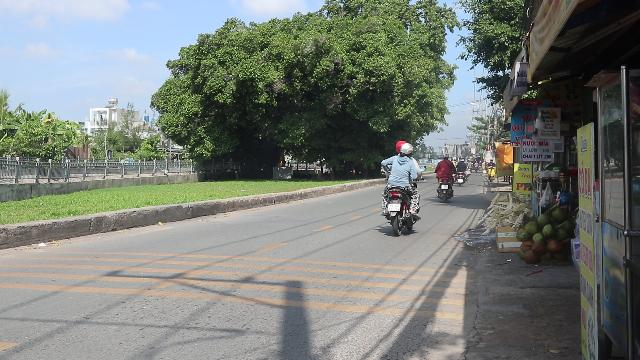helmet: (400, 141, 412, 155), (394, 140, 406, 154)
licenseplate: (388, 204, 400, 210)
motorcyclist: (378, 141, 422, 236)
